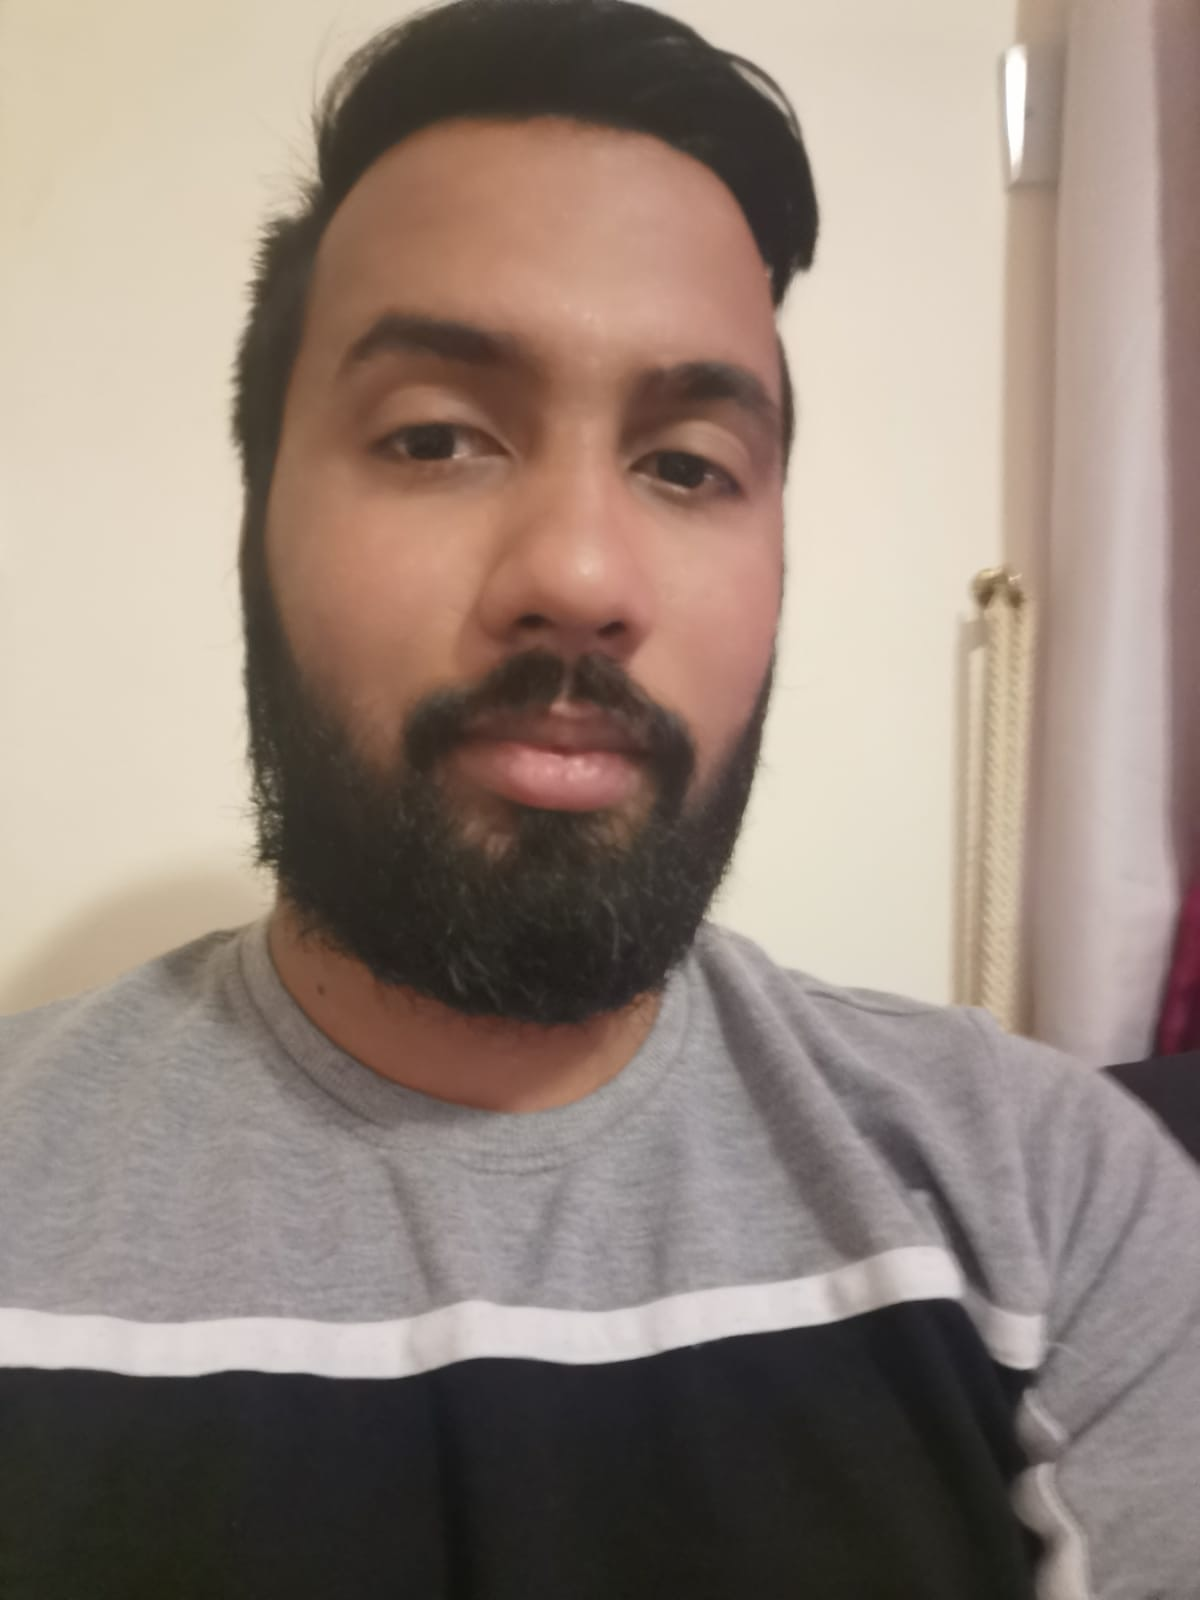Not Sleeping: (334, 370, 790, 539)
